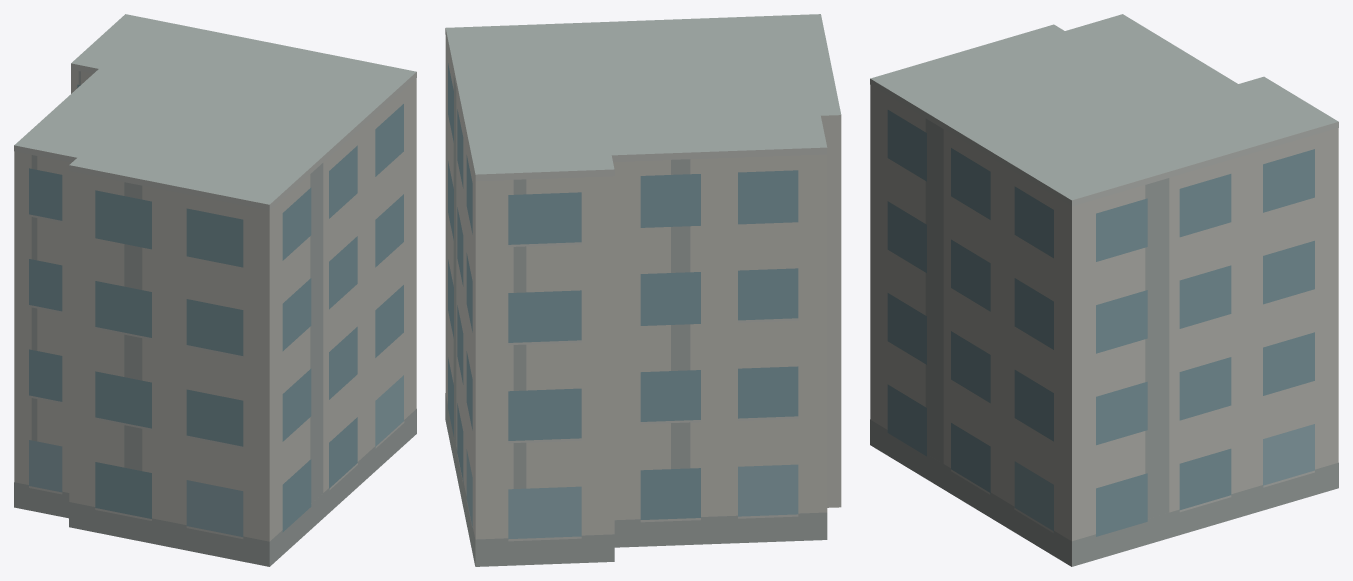
The model's file is residential-e5cc5e94-5d77-4f22-ab82-cea62ae3a410.glb.
The picture shows the model from 3 angles, left to right: view 1: azimuth 30°, elevation 25°; view 2: azimuth 150°, elevation 25°; view 3: azimuth 270°, elevation 25°; orthographic projection. The views are drawn at different scales.
Parts seen in each view (by area): view 1: residential-e5cc5e94-5d77-4f22-ab82-cea62ae3a410.tmp; view 2: residential-e5cc5e94-5d77-4f22-ab82-cea62ae3a410.tmp; view 3: residential-e5cc5e94-5d77-4f22-ab82-cea62ae3a410.tmp.
Boxes of the visible parts, x1,y1,x2,y2 form: residential-e5cc5e94-5d77-4f22-ab82-cea62ae3a410.tmp: [14, 14, 416, 566]; residential-e5cc5e94-5d77-4f22-ab82-cea62ae3a410.tmp: [445, 14, 841, 566]; residential-e5cc5e94-5d77-4f22-ab82-cea62ae3a410.tmp: [870, 14, 1338, 566].
Bounding box in the file's own units: 15.72 × 14.4 × 16.7.
